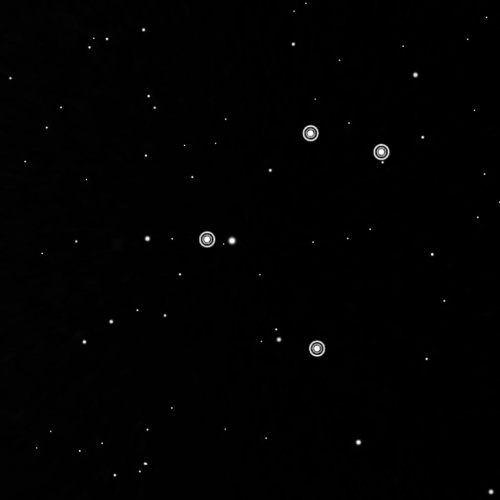coma_berenices: (185, 117, 399, 367)
